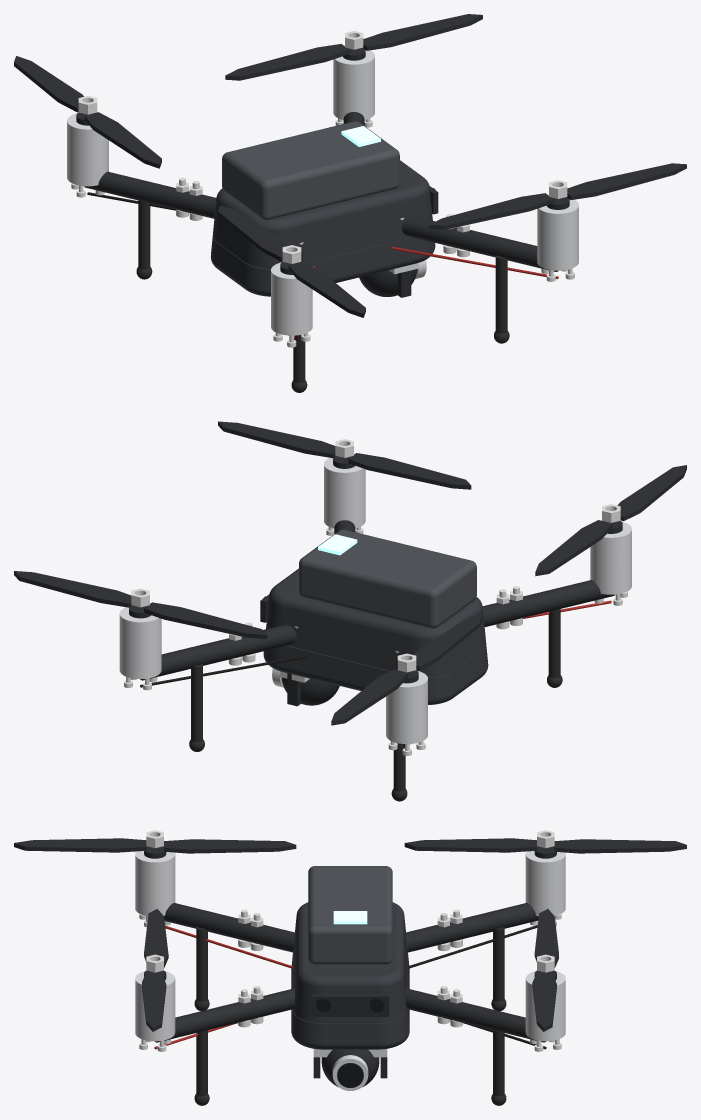
Rendered from anatomy_v2.glb.
3 views of the same model, one above another, from view 1: azimuth 30°, elevation 25°; view 2: azimuth 150°, elevation 25°; view 3: azimuth 270°, elevation 25° (orthographic). The views are drawn at different scales.
Visible parts, largest first — view 1: accent.1, body.2, body.1, coat.12, metal.22, coat.13, metal.21, metal.24, metal.23, coat.45, coat.43, coat.44 (+8 smaller); view 2: accent.1, body.2, body.1, coat.11, metal.21, coat.14, metal.23, metal.22, metal.24, coat.45, coat.43, coat.44 (+8 smaller); view 3: accent.1, body.2, body.1, coat.13, coat.14, coat.11, coat.12, metal.24, metal.23, coat.49, coat.46, coat.47 (+16 smaller).
Boxes of the visible parts, left/top/right/bottom form: accent.1: left=222, top=121, right=399, bottom=219; body.2: left=213, top=160, right=432, bottom=268; body.1: left=211, top=235, right=435, bottom=296; coat.12: left=402, top=216, right=558, bottom=271; metal.22: left=537, top=199, right=578, bottom=270; coat.13: left=84, top=171, right=216, bottom=218; metal.21: left=333, top=50, right=374, bottom=119; metal.24: left=271, top=262, right=312, bottom=335; metal.23: left=67, top=113, right=108, bottom=186; coat.45: left=429, top=193, right=553, bottom=229; coat.43: left=225, top=44, right=349, bottom=80; coat.44: left=567, top=163, right=686, bottom=199; accent.1: left=299, top=529, right=476, bottom=628; body.2: left=266, top=568, right=486, bottom=677; body.1: left=263, top=644, right=488, bottom=704; coat.11: left=140, top=625, right=296, bottom=680; metal.21: left=119, top=607, right=161, bottom=678; coat.14: left=482, top=580, right=614, bottom=626; metal.23: left=386, top=671, right=427, bottom=743; metal.22: left=324, top=458, right=365, bottom=528; metal.24: left=590, top=521, right=631, bottom=594; coat.45: left=348, top=453, right=471, bottom=489; coat.43: left=144, top=602, right=267, bottom=638; coat.44: left=218, top=421, right=335, bottom=458; accent.1: left=308, top=866, right=392, bottom=964; body.2: left=293, top=902, right=407, bottom=1023; body.1: left=291, top=953, right=409, bottom=1049; coat.13: left=406, top=903, right=538, bottom=952; coat.14: left=164, top=903, right=294, bottom=952; coat.11: left=406, top=988, right=545, bottom=1042; coat.12: left=155, top=988, right=294, bottom=1042; metal.24: left=135, top=851, right=175, bottom=916; metal.23: left=525, top=851, right=565, bottom=916; coat.49: left=14, top=838, right=146, bottom=852; coat.46: left=554, top=839, right=686, bottom=853; coat.47: left=404, top=838, right=536, bottom=852.
Size of the model in its own units: 0.2049 by 0.08 by 0.3027.
